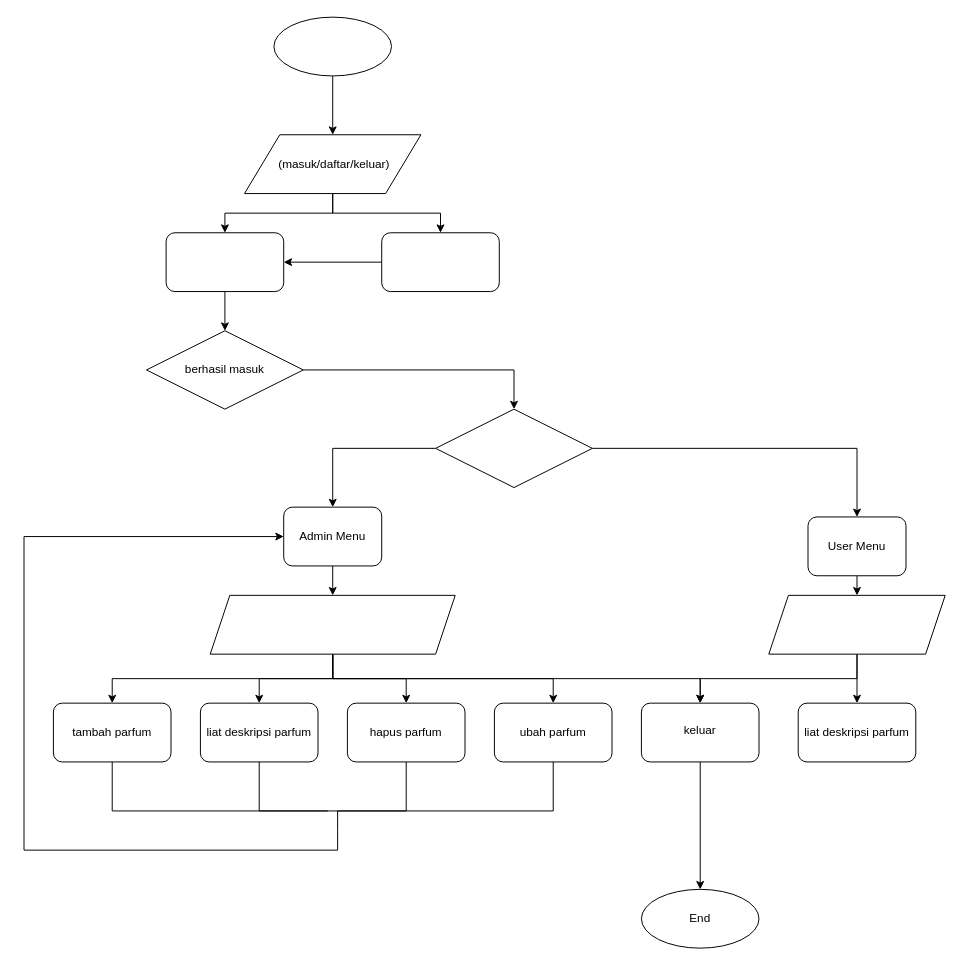
The diagram is 962 pixels wide and 965 high, and some of its shapes have lost their labels. Each missing label, with the centre of its shape:
admin/user: the point at 513,448
daftarkan akun: the point at 440,262
liat deskripsi parfum,keluar: the point at 856,624
masukan akun: the point at 224,262
Start: the point at 332,46
Tambah,liat deskripsi,ubah,hapus,keluar: the point at 332,624
